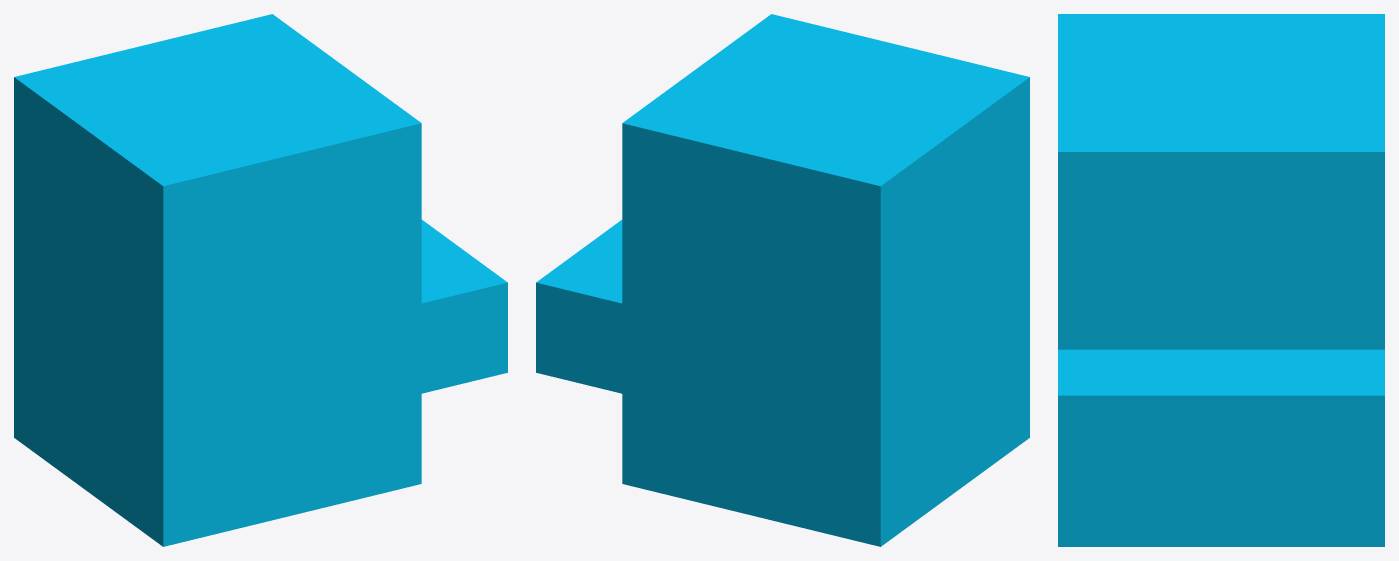
Rendered from cristais-0.obj.
3 renders of one model, left to right at view 1: azimuth 30°, elevation 25°; view 2: azimuth 150°, elevation 25°; view 3: azimuth 270°, elevation 25°, orthographic. The views are drawn at different scales.
Bounding box in the file's own units: 0.4 × 0.4 × 0.3.
Materials: 1 (1 with a texture image).
